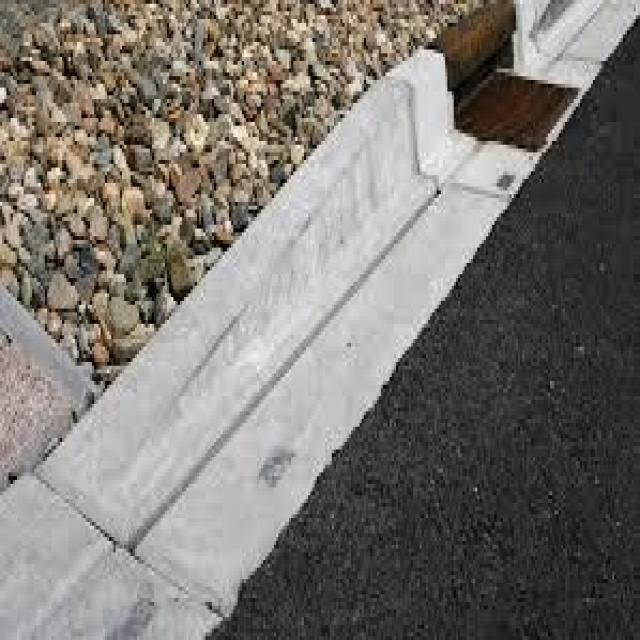bump: (26, 87, 410, 568)
